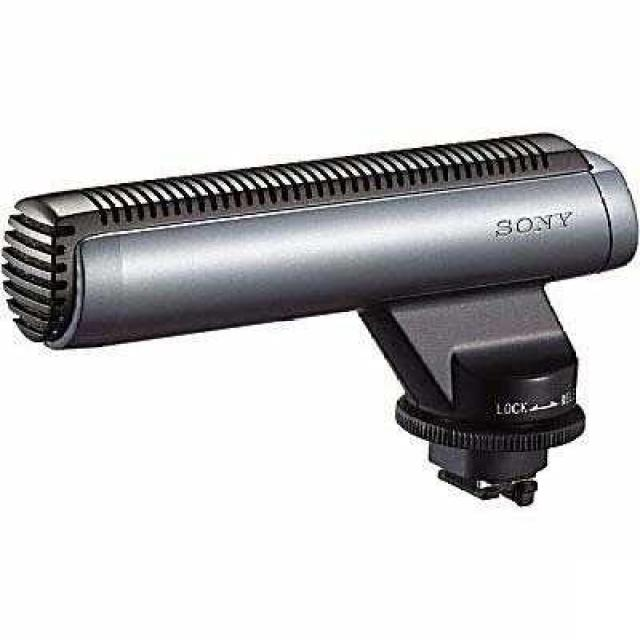microphone: (8, 121, 638, 353)
